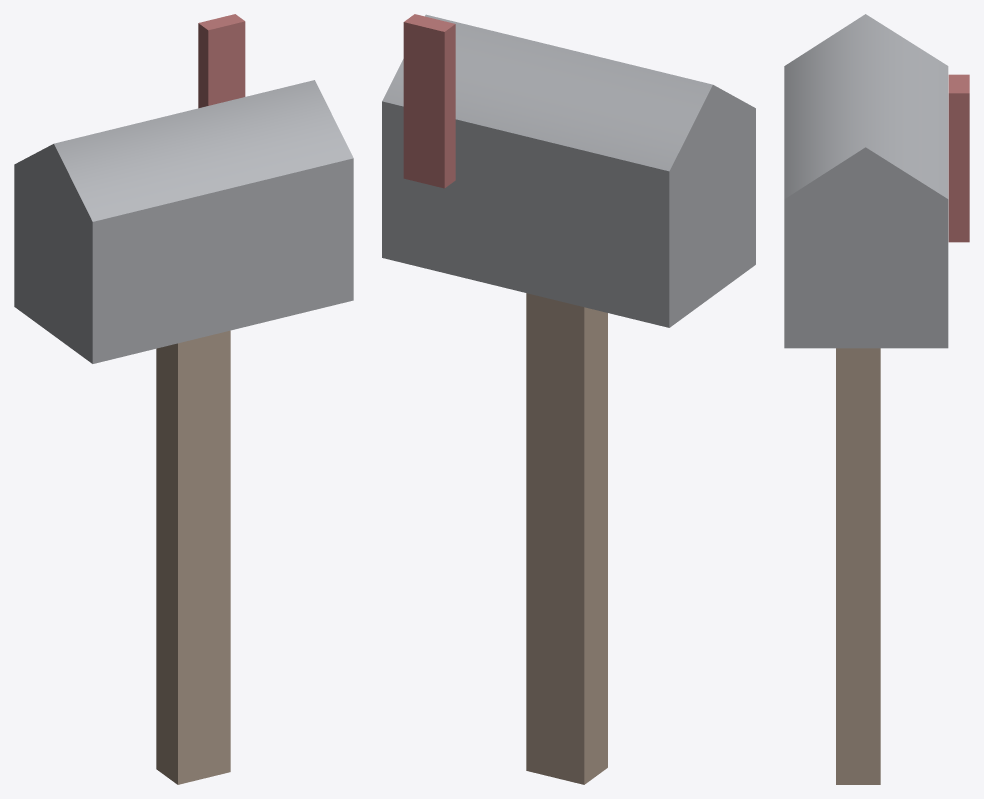
Rendered from mailBox_grey01.fbx.
The picture shows the model from 3 angles, left to right: view 1: azimuth 30°, elevation 25°; view 2: azimuth 150°, elevation 25°; view 3: azimuth 270°, elevation 25°; orthographic projection. The views are drawn at different scales.
Parts seen in each view (by area): view 1: mailBox, mailBox_stand, mailBox_flag; view 2: mailBox, mailBox_stand, mailBox_flag; view 3: mailBox, mailBox_stand, mailBox_flag.
Part boxes in pixels (<box>): mailBox: <box>14,80,353,363</box>; mailBox_stand: <box>156,330,230,784</box>; mailBox_flag: <box>198,14,245,108</box>; mailBox: <box>382,14,755,327</box>; mailBox_stand: <box>526,293,607,784</box>; mailBox_flag: <box>403,14,455,188</box>; mailBox: <box>784,14,948,348</box>; mailBox_stand: <box>836,348,880,784</box>; mailBox_flag: <box>948,74,969,242</box>.
Bounding box in the file's own units: 0.3195 × 0.8126 × 0.1879.
